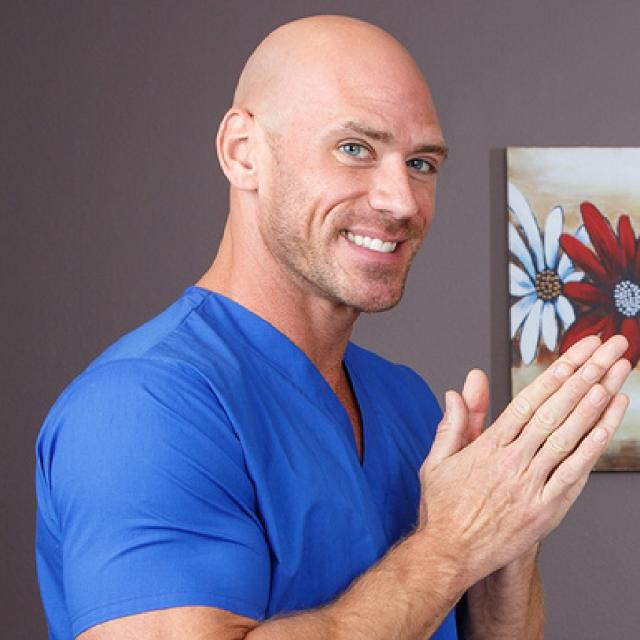no_helmet: (219, 4, 466, 166)
